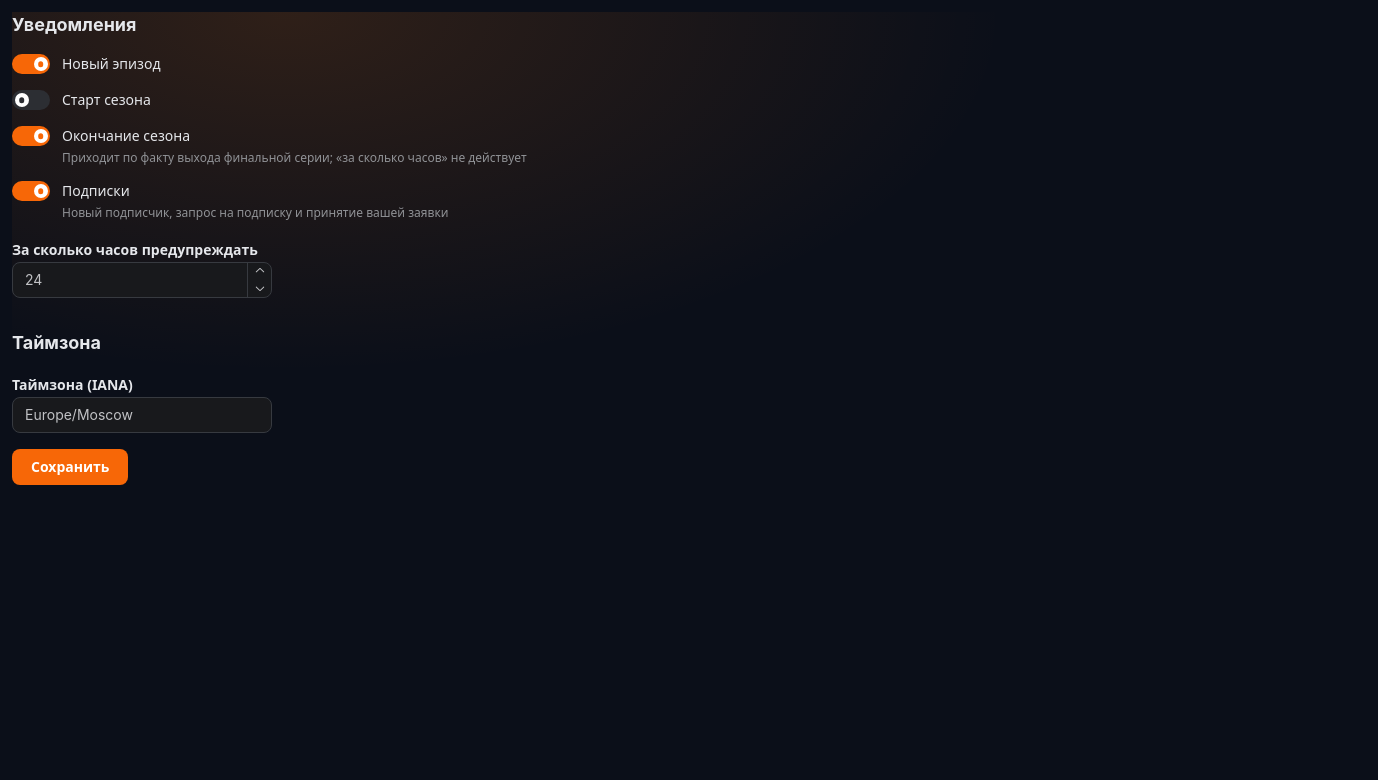
Scenario: PrefsForm › loads current prefs and submits both prefs and settings
The width and height of the screenshot is (1378, 780).
expect the field labelled "Таймзона (IANA)" holds "Europe/Moscow": met, box [12,397,272,433]
Click the switch labelled "Подписки" at (230, 202), box [12,182,448,222]
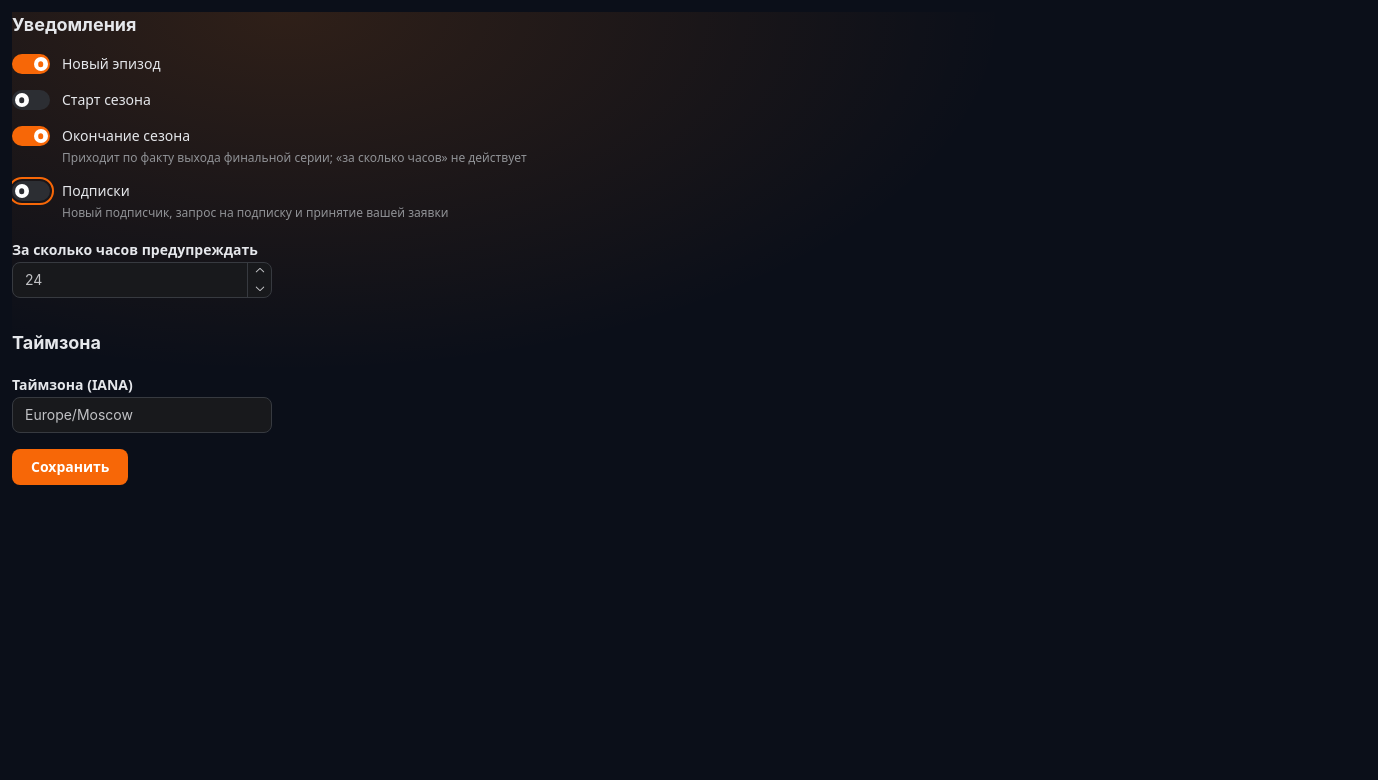
Type "Europe/Berlin" into the field labelled "Таймзона (IANA)" at (142, 415), box [12,397,272,433]
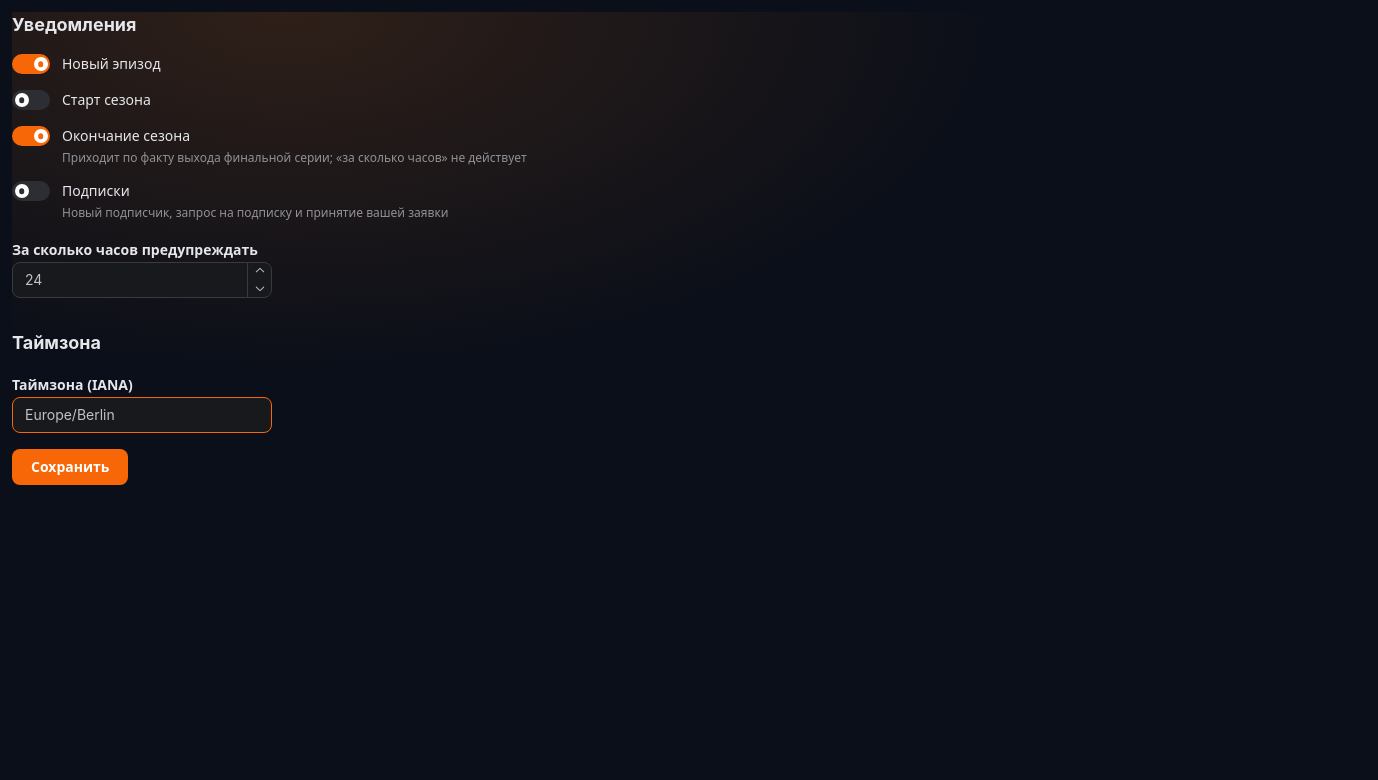
Click the button "Сохранить" at (70, 467), box [12,449,128,485]
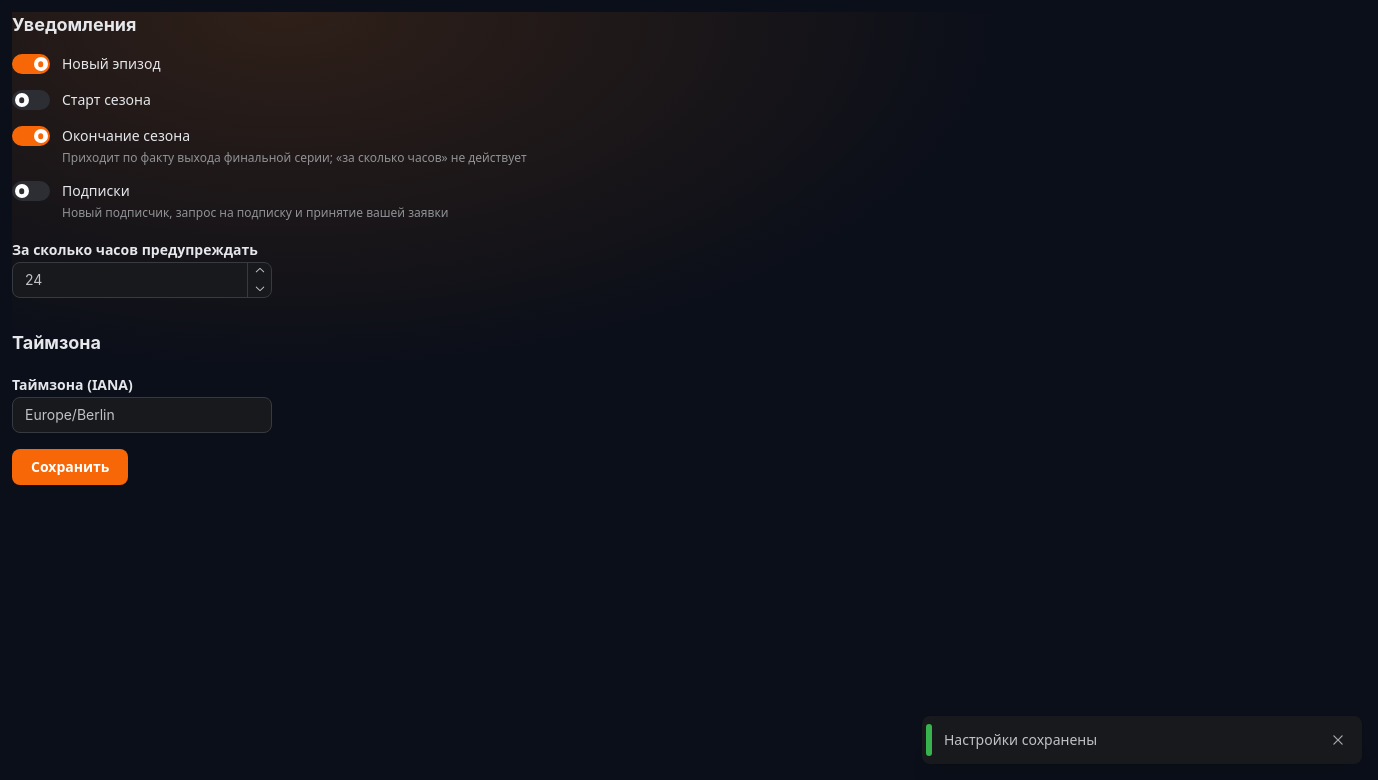
expect the text "Настройки сохранены" is shown: met, box [944,730,1097,749]
